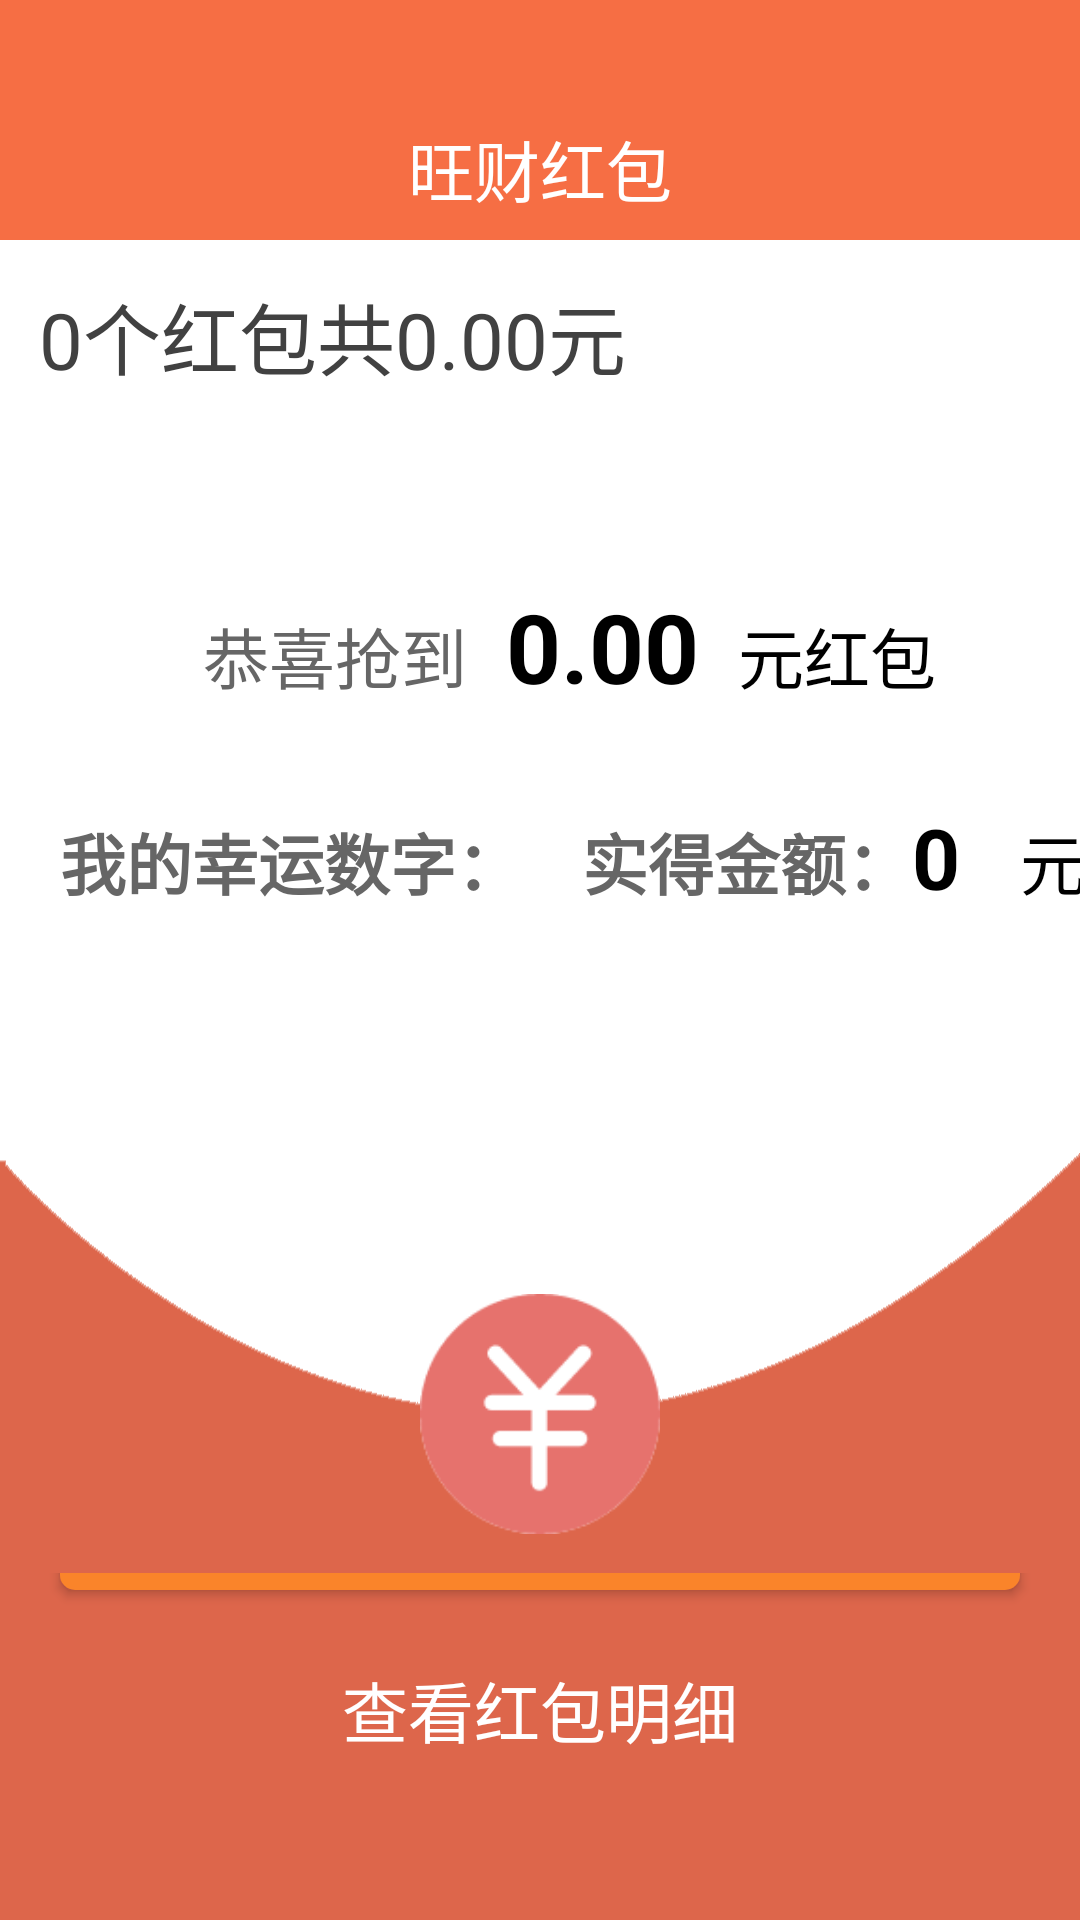

Point at icon controls on the screen. Image size 1080w x 1920h, points as [x,y].
money: [540,1414]
